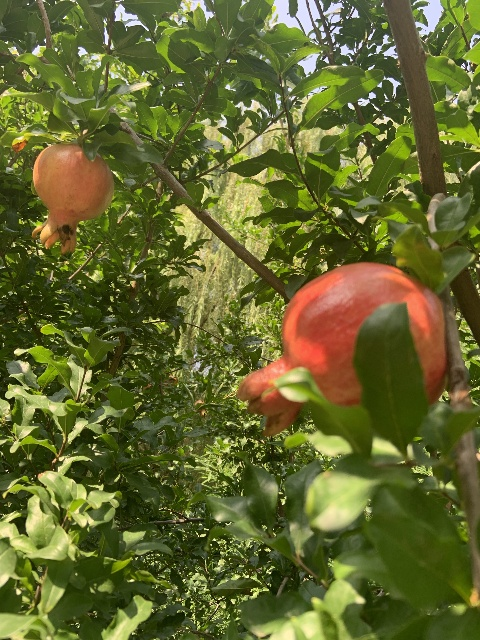ripe: (238, 262, 446, 436), (31, 142, 114, 253), (195, 400, 207, 417)
